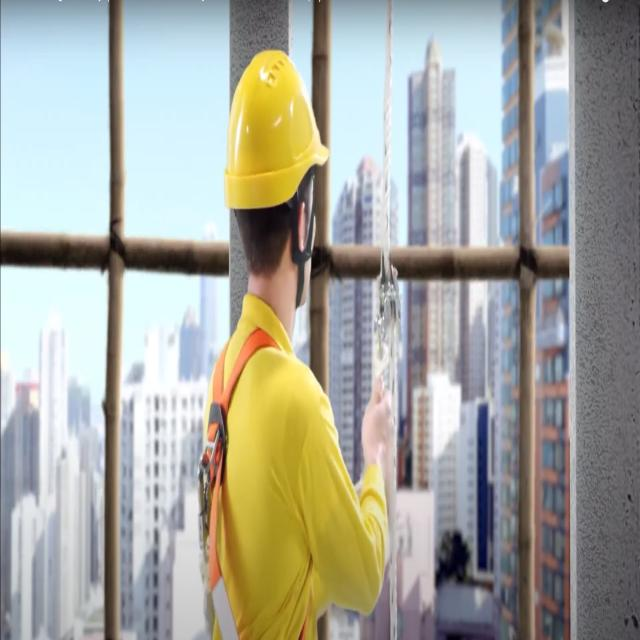illegal_helmet: (219, 45, 332, 315)
